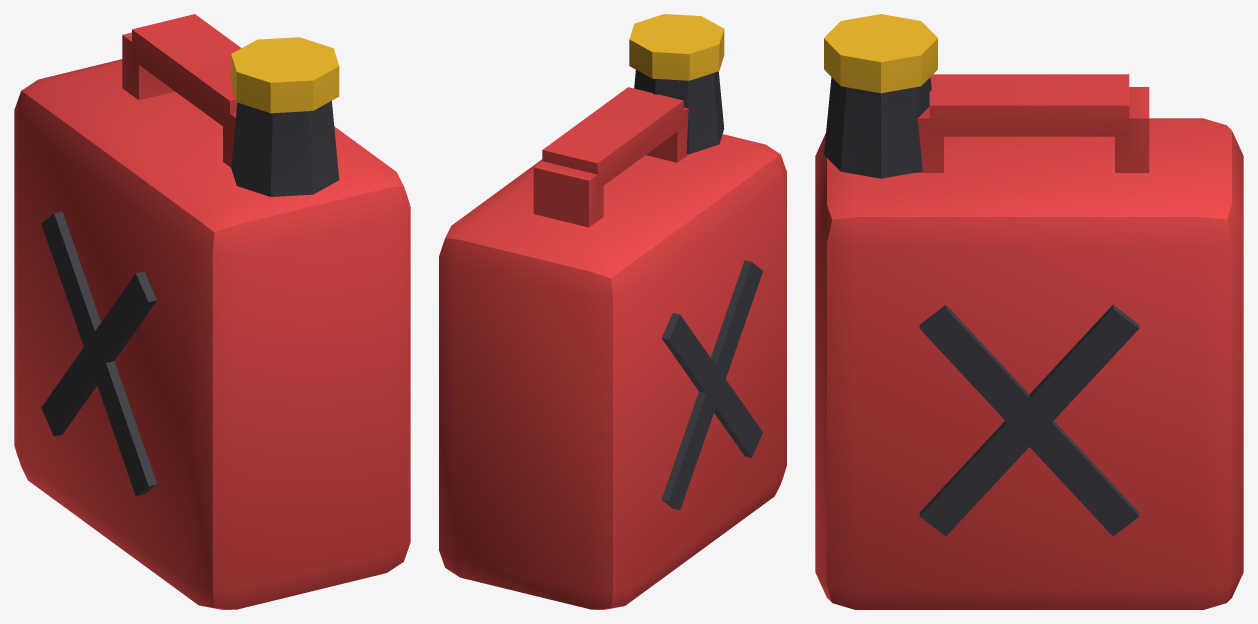
Rendered from can.glb.
3 views of the same model, side by side, from view 1: azimuth 30°, elevation 25°; view 2: azimuth 150°, elevation 25°; view 3: azimuth 270°, elevation 25° (orthographic). The views are drawn at different scales.
Visible parts, largest first — view 1: can_red, can_dark, can_cap; view 2: can_red, can_dark, can_cap; view 3: can_red, can_dark, can_cap.
Part boxes in pixels (bbox=[...]): can_red: bbox=[14, 14, 410, 609]; can_dark: bbox=[41, 101, 339, 496]; can_cap: bbox=[231, 37, 339, 113]; can_red: bbox=[439, 87, 786, 609]; can_dark: bbox=[634, 70, 762, 510]; can_cap: bbox=[629, 14, 724, 80]; can_red: bbox=[815, 74, 1243, 609]; can_dark: bbox=[824, 77, 1139, 536]; can_cap: bbox=[824, 14, 937, 93].
Size of the model in its own units: 0.97 by 2.06 by 1.5.
